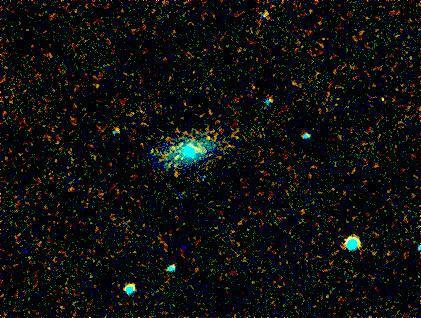star: (84, 75, 114, 105)
